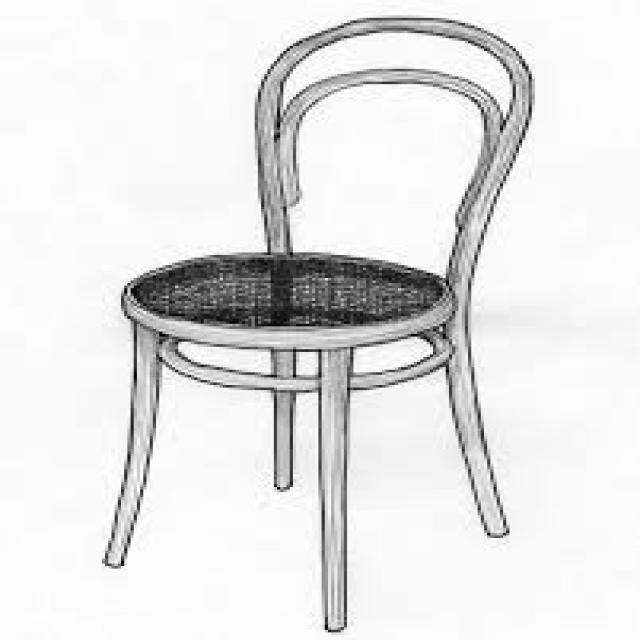chair: (25, 0, 598, 632)
